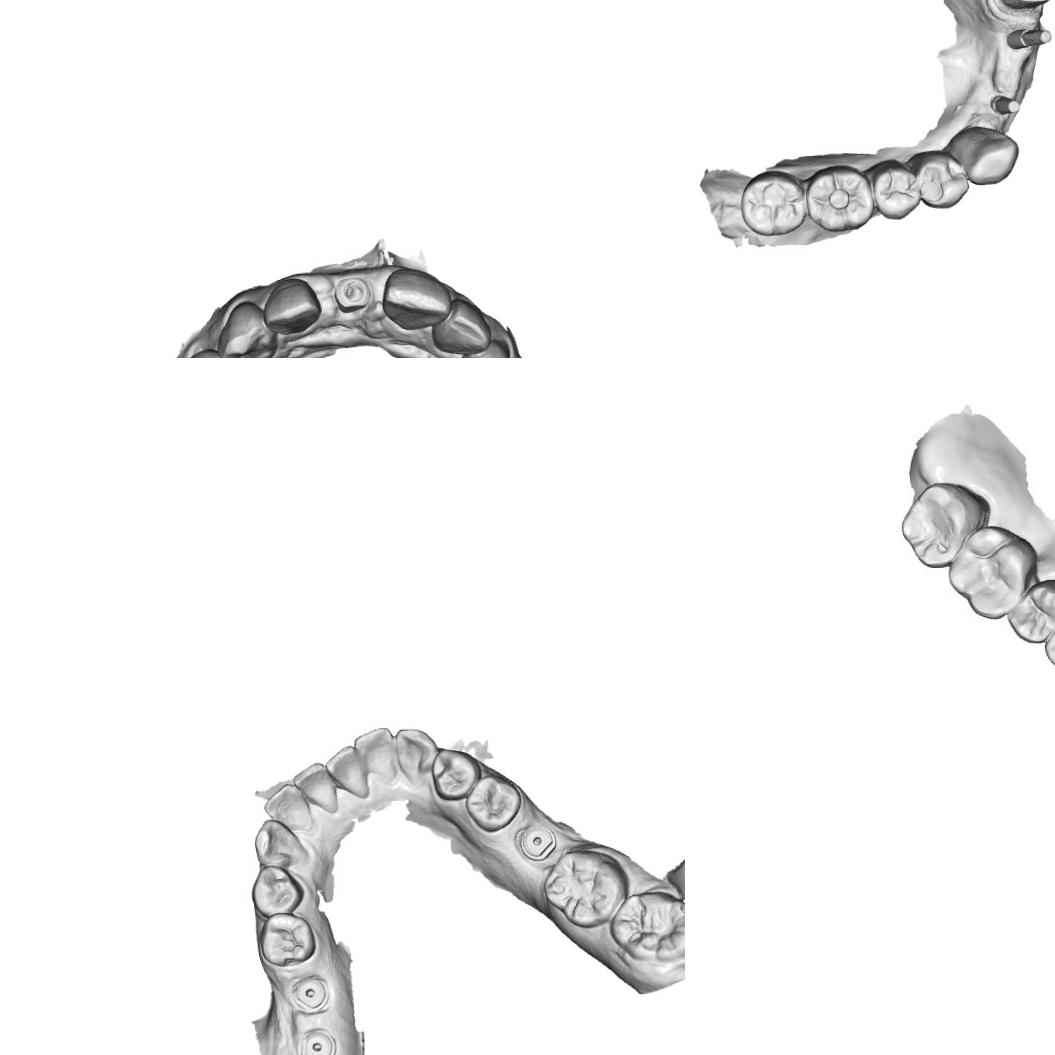abutment: (1004, 26, 1054, 52), (988, 94, 1020, 116)
canine: (942, 124, 1020, 188), (213, 300, 273, 358), (252, 817, 312, 870), (394, 727, 438, 790), (452, 341, 514, 358)
crown: (993, 0, 1054, 15)
implant: (334, 272, 374, 314), (517, 822, 558, 862), (290, 974, 331, 1009), (297, 1026, 338, 1055)
incisor: (382, 262, 450, 334), (260, 277, 321, 336), (430, 299, 492, 356), (288, 757, 341, 814), (322, 744, 371, 803), (354, 726, 398, 786), (262, 781, 310, 827)
molar: (947, 526, 1038, 620), (895, 478, 984, 568), (541, 845, 632, 930), (605, 888, 685, 969), (803, 163, 875, 233), (739, 170, 808, 237)
premolar: (462, 770, 524, 836), (906, 148, 970, 211), (1003, 578, 1055, 646), (256, 911, 318, 968), (868, 158, 922, 221), (249, 862, 305, 919), (428, 746, 482, 802)
